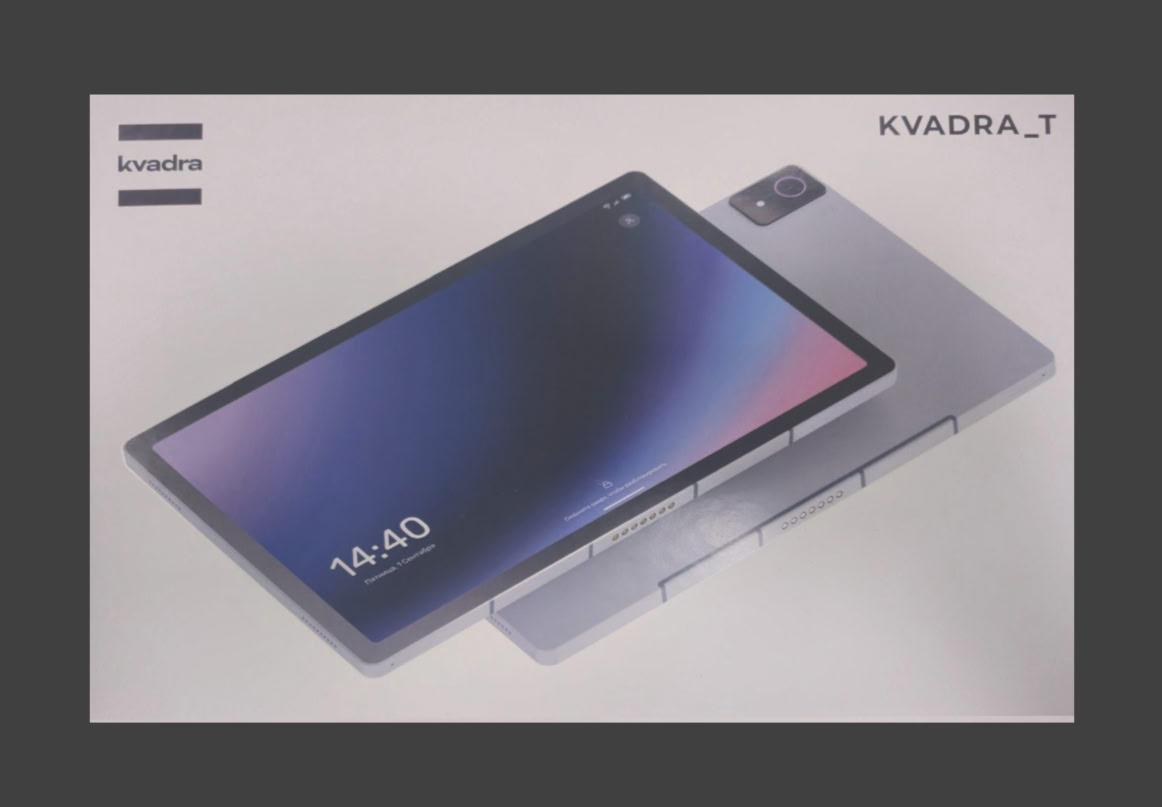tablet_top: (88, 92, 1077, 725)
